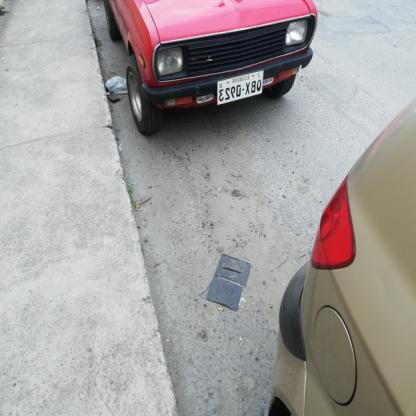Placa: (215, 70, 265, 112)
